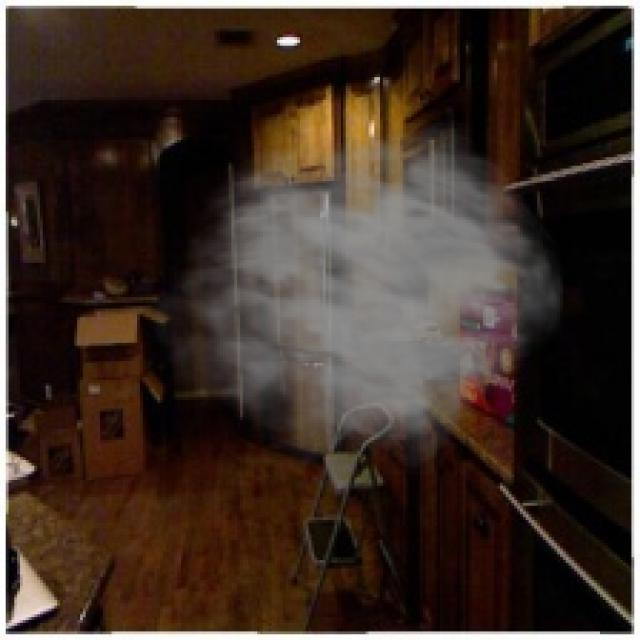Smoke: (145, 122, 566, 474)
